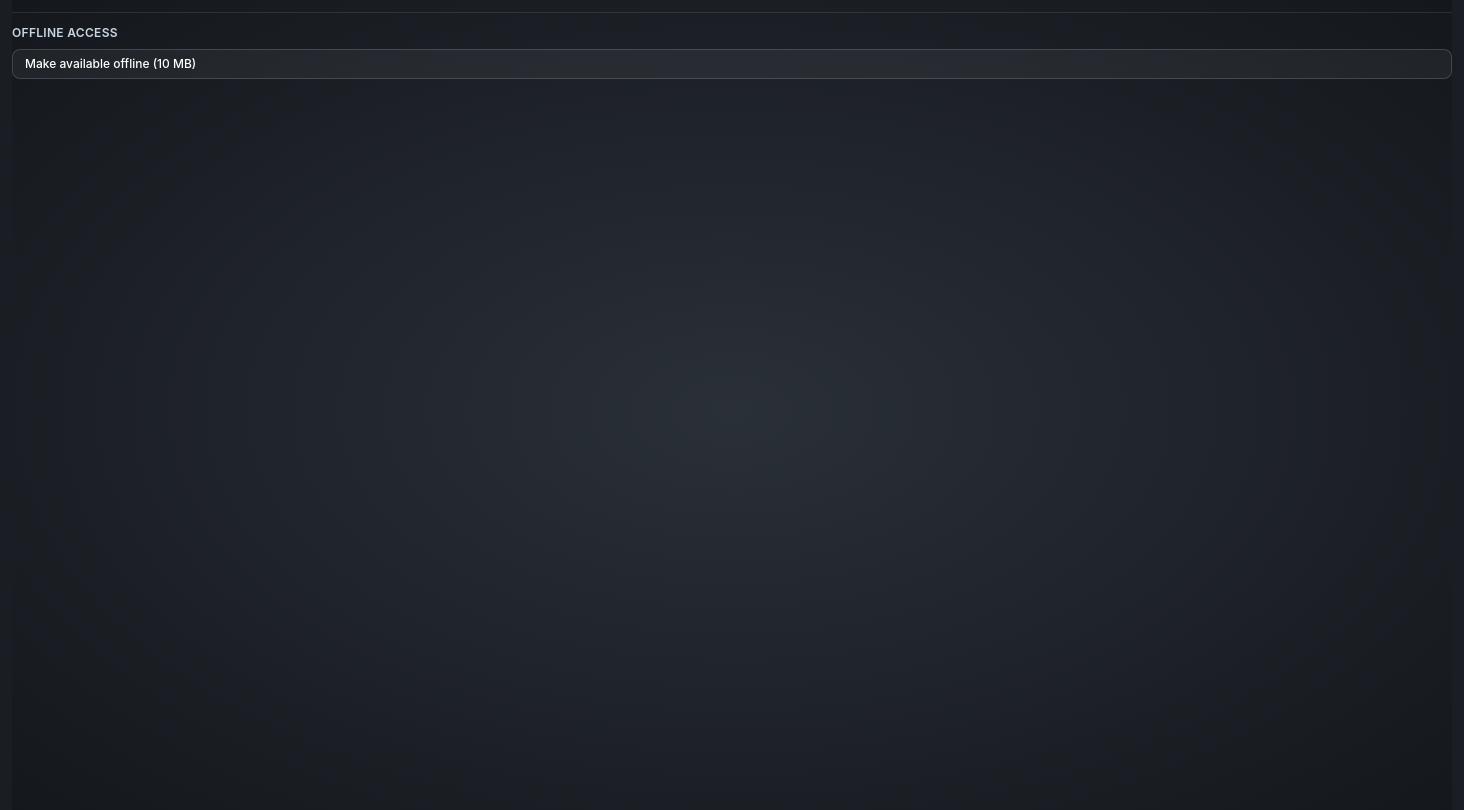
Scenario: OfflineDownload › preserves live download progress across unmount and remount
Later steps or results of the test are not shown.
Click the button "Make available offline (10 MB)" at point(111, 64), box [12,49,1452,79]
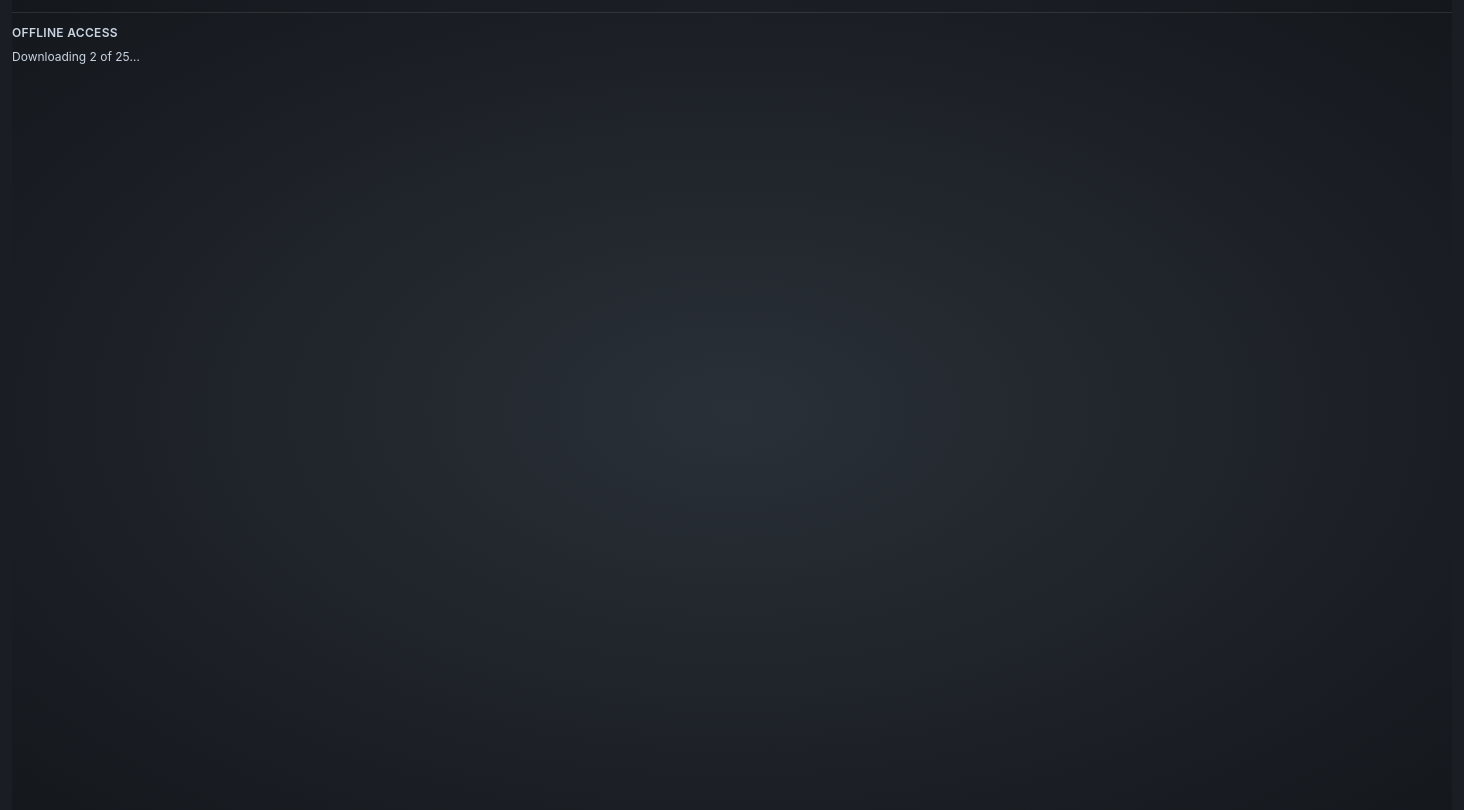
Expected: the text "Downloading 2 of 25…" is shown, [12,49,140,64]
